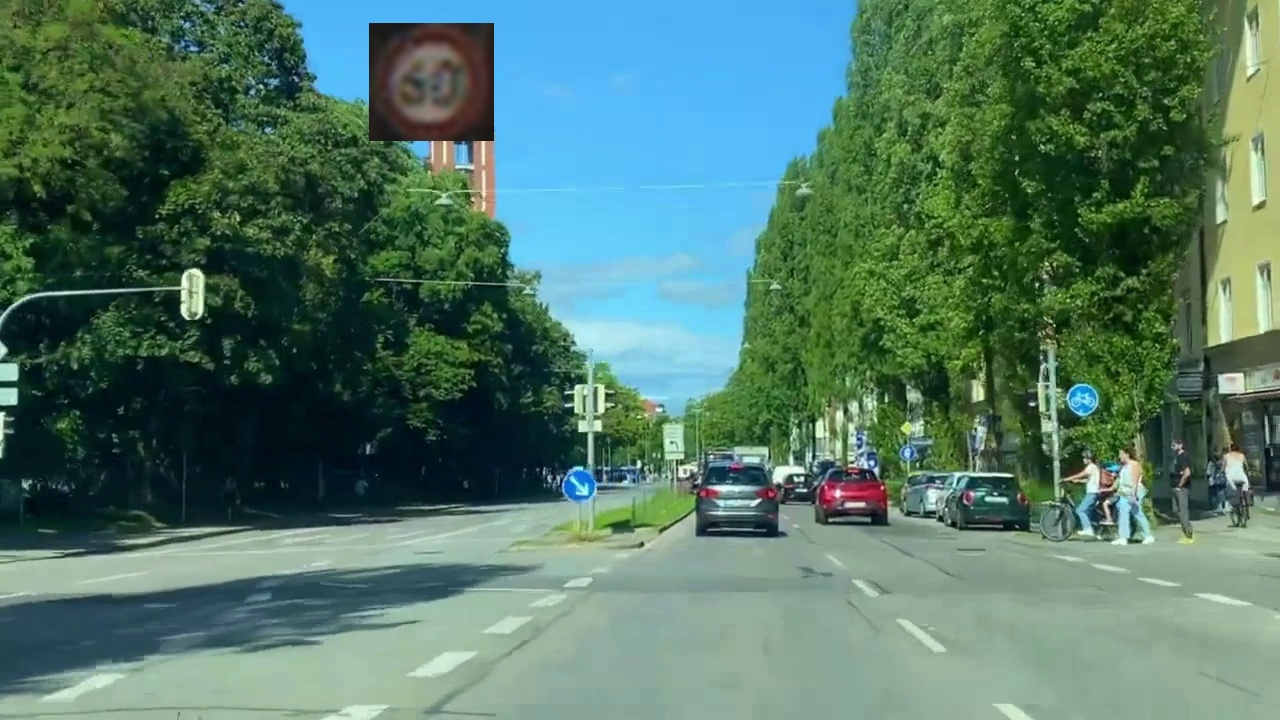Speed 60: (369, 23, 494, 141)
